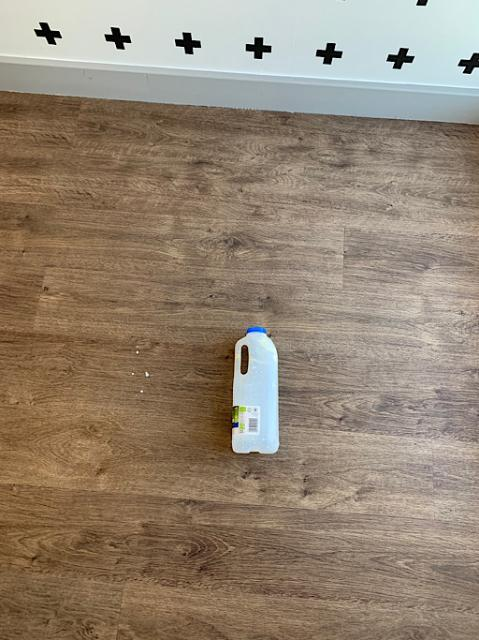plastic: (231, 326, 277, 452)
